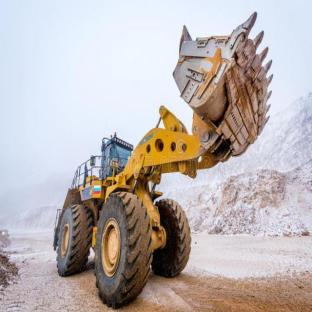ExcavationMachinery: (66, 9, 283, 283)
